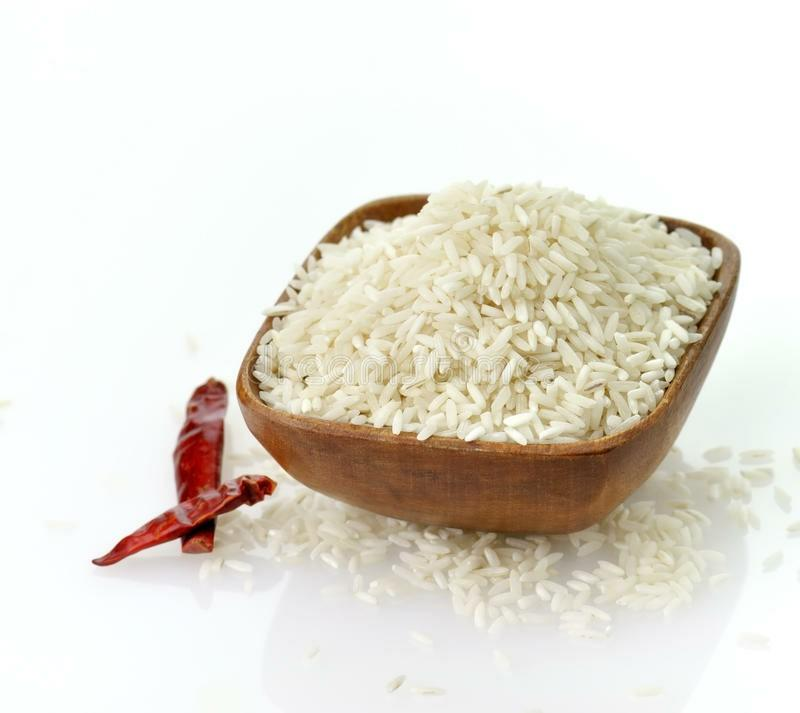WhiteRice: (251, 179, 721, 442)
